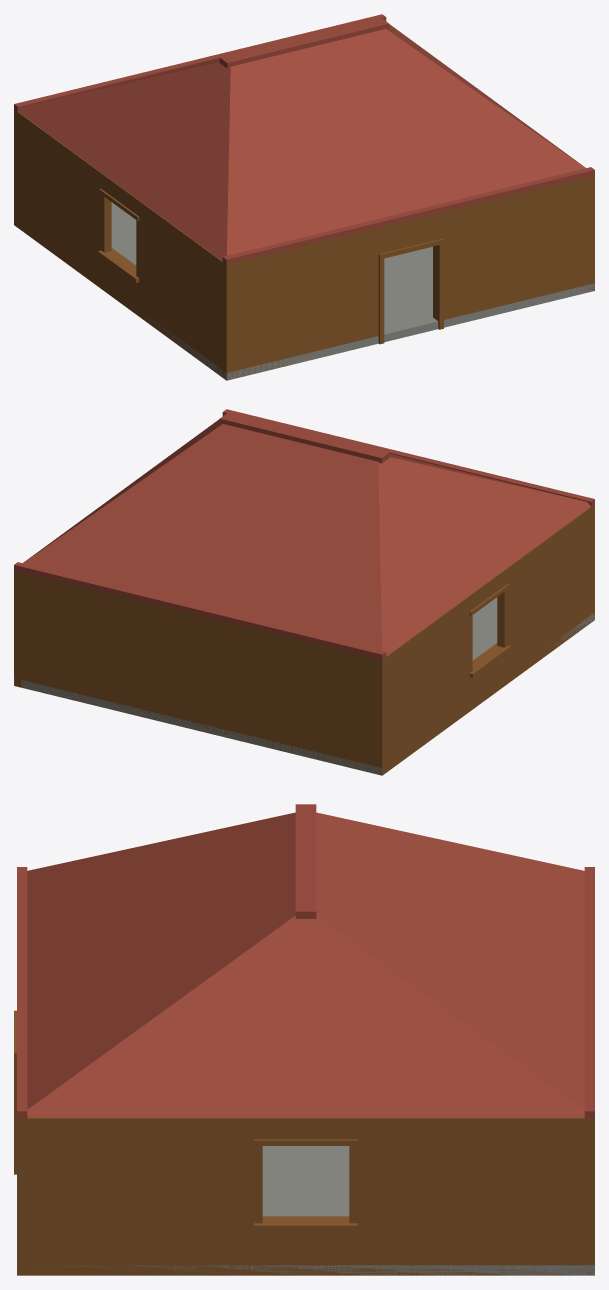
The model's file is cabin_wood.glb.
3 views of the same model, one above another, from view 1: azimuth 30°, elevation 25°; view 2: azimuth 150°, elevation 25°; view 3: azimuth 270°, elevation 25° (orthographic). The views are drawn at different scales.
Visible parts, largest first — view 1: cabin_wood; view 2: cabin_wood; view 3: cabin_wood.
Part boxes in pixels (box(x1,y1,x2,y2)): cabin_wood: box(14, 14, 594, 380); cabin_wood: box(14, 409, 594, 775); cabin_wood: box(14, 804, 594, 1275).
Bounding box in the file's own units: 10.18 × 5.64 × 10.05.
